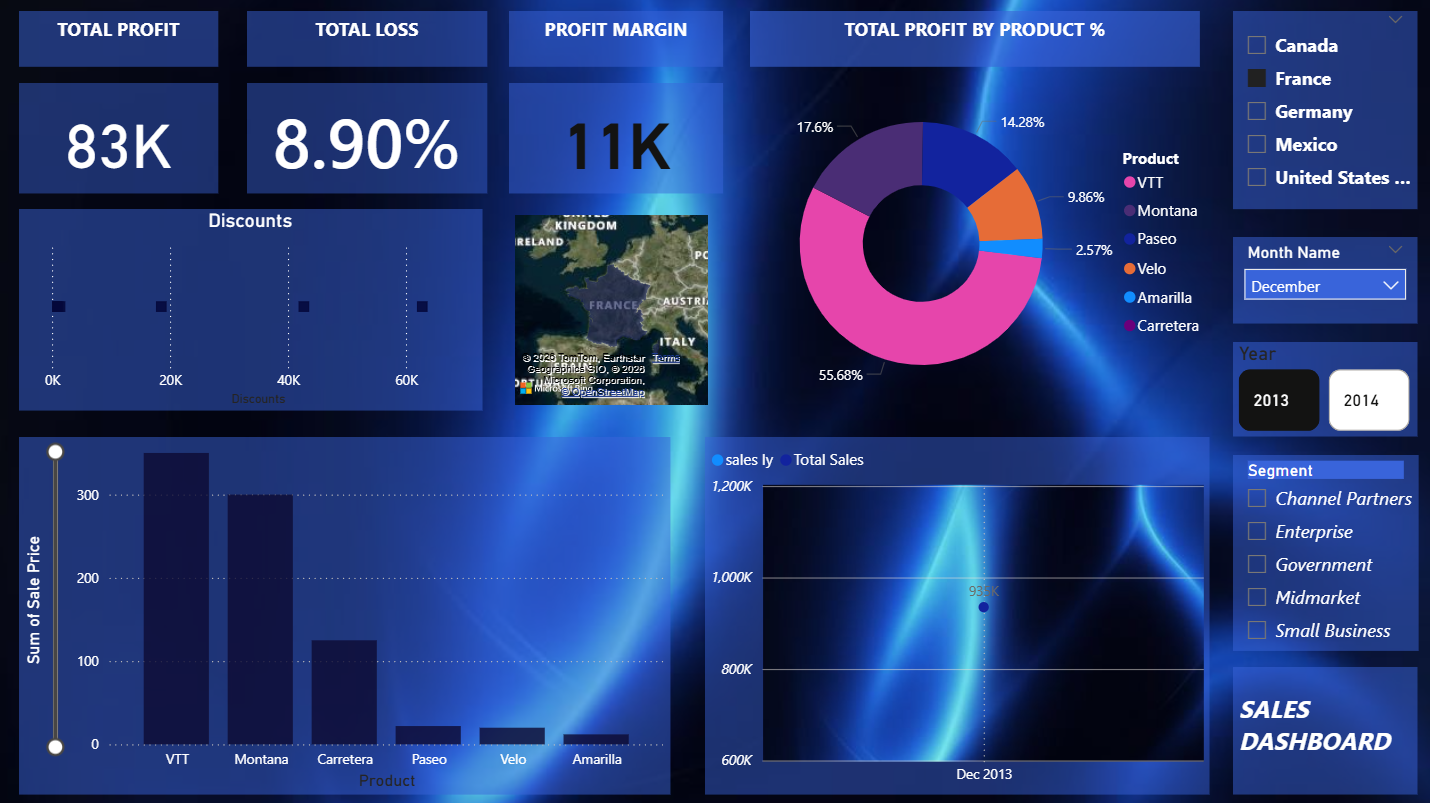

The page's visual inventory and layout, read from the dashboard file:
{"tool":"powerbi","page":{"name":"Page 4","canvas":[1280,720],"ordinal":3},"visuals":[{"type":"donutChart","fields":{"Y":["Sum(financials. Sales)"],"Category":["financials.Product"]},"box":[10.1,66.2,421.9,347],"z":0},{"type":"textbox","box":[0,0,1280.2,66.2],"z":1000},{"type":"filledMap","fields":{"Category":["financials.Country"],"Series":["financials.Product"]},"box":[442.1,66.2,590.4,347],"z":2000},{"type":"lineClusteredColumnComboChart","fields":{"Y":["Sum(financials.Units Sold)"],"Category":["financials.Product"]},"box":[10.1,426.2,432,293.8],"z":3000},{"type":"slicer","fields":{"Values":["financials.Country"]},"box":[1044.8,173,235.2,225.1],"z":4000},{"type":"card","fields":{"Values":["Sum(financials.Profit)"]},"box":[1044.8,65.5,221.7,107.5],"z":5000},{"type":"lineChart","fields":{"Category":["financials.Segment"],"Y":["Sum(financials.Units Sold)"]},"box":[442,426,590,294],"z":6000},{"type":"ribbonChart","fields":{"Y":["Sum(financials.Discounts)"],"Category":["financials.Product"]},"box":[1045,426,235,294],"z":7000}]}

Visuals, with their boxes in screenshot pixels (x1, y1, x2, y2), scaled from the page's 1280x720 canvas onto the 1430x803 screenshot:
donutChart - Sum(financials. Sales) x financials.Product: <box>11,74,483,461</box>
textbox: <box>0,0,1429,74</box>
filledMap - financials.Country x financials.Product: <box>494,74,1153,461</box>
lineClusteredColumnComboChart - Sum(financials.Units Sold) x financials.Product: <box>11,475,494,802</box>
slicer - financials.Country: <box>1167,193,1429,444</box>
card - Sum(financials.Profit): <box>1167,73,1415,193</box>
lineChart - financials.Segment x Sum(financials.Units Sold): <box>494,475,1153,802</box>
ribbonChart - Sum(financials.Discounts) x financials.Product: <box>1167,475,1429,802</box>
